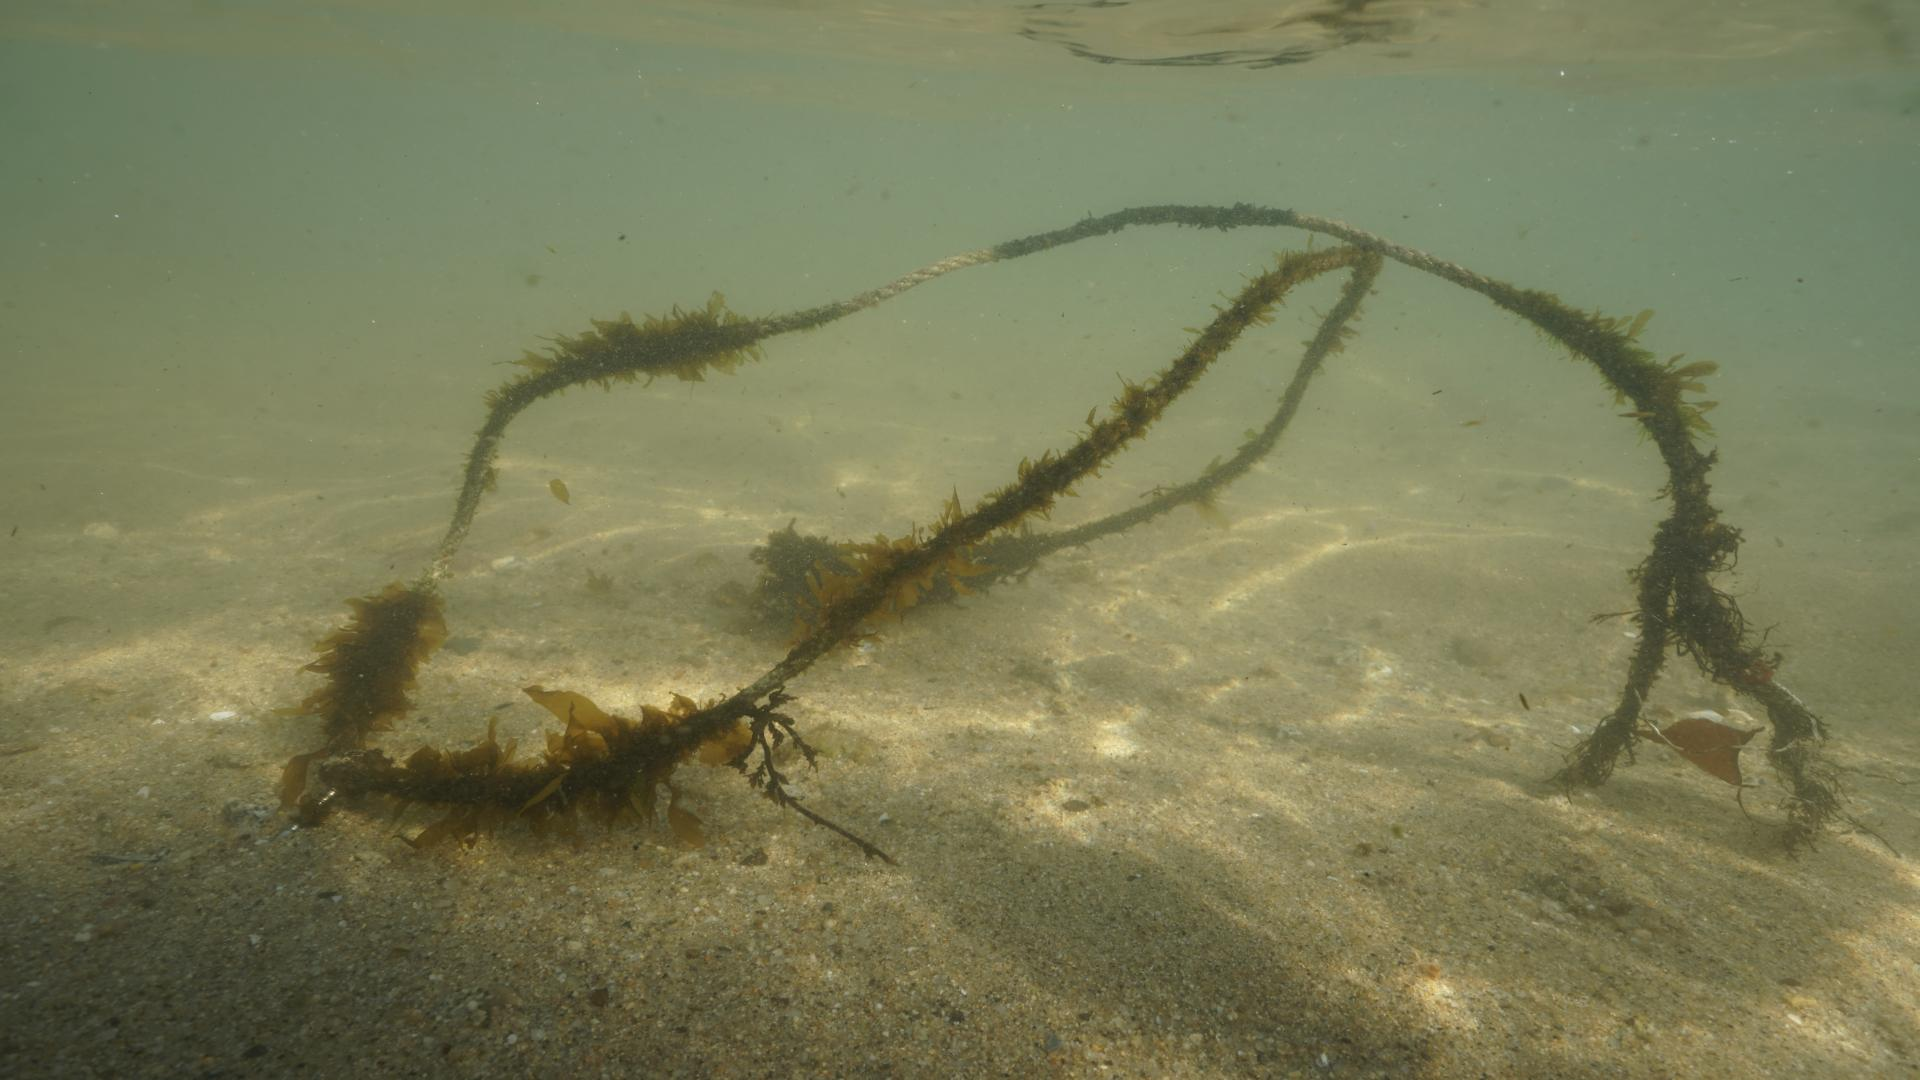bundle of ropes: (320, 204, 1816, 794)
